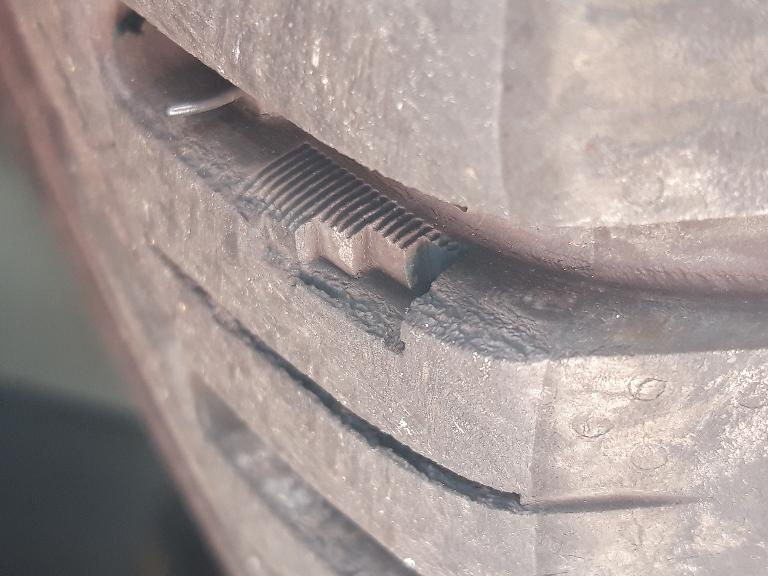temoin:80: (218, 134, 481, 374)
